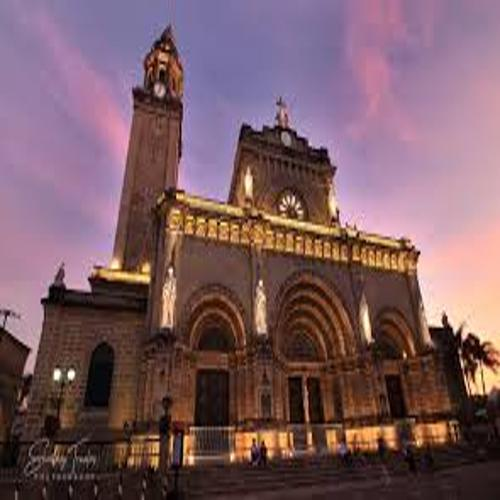Manila Cathedral Church: (35, 8, 465, 428)
